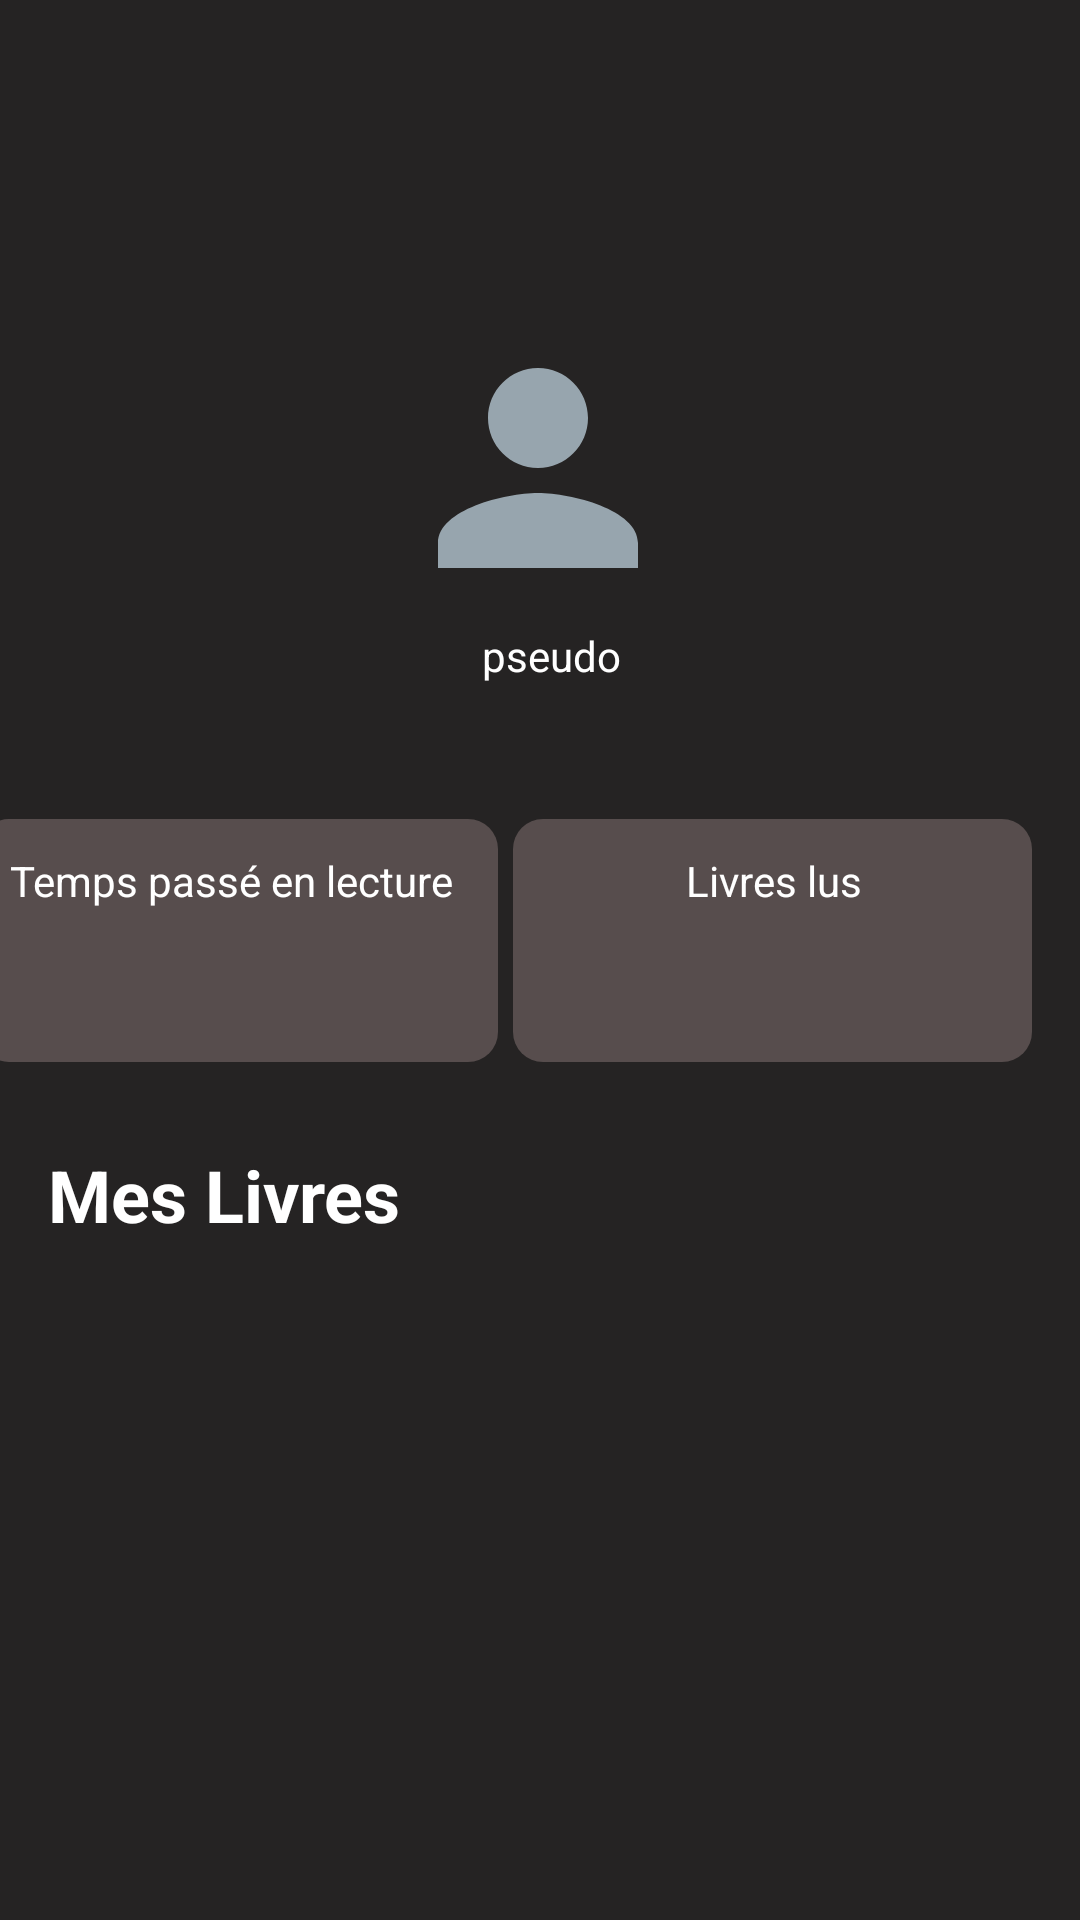

Where to tap for icons on this 1080 × 1920 app screen, as [x,y]:
profile picture: [538,468]
